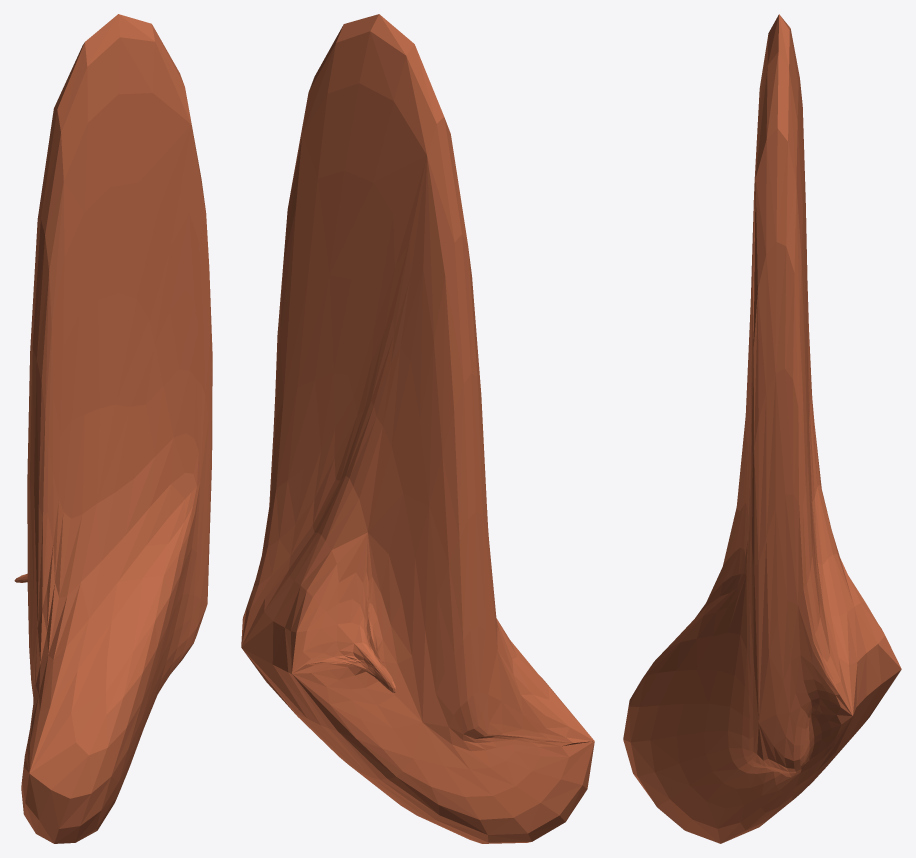
3 renders of one model, left to right at view 1: azimuth 30°, elevation 25°; view 2: azimuth 150°, elevation 25°; view 3: azimuth 270°, elevation 25°, orthographic. The views are drawn at different scales.
Parts seen in each view (by area): view 1: 602_Cube.2423; view 2: 602_Cube.2423; view 3: 602_Cube.2423.
Part boxes in pixels (x1,y1,x2,y2): 602_Cube.2423: (14, 14, 212, 843); 602_Cube.2423: (241, 14, 594, 843); 602_Cube.2423: (623, 14, 901, 843).
Size of the model in its own units: 4.42 by 13.41 by 3.94.
